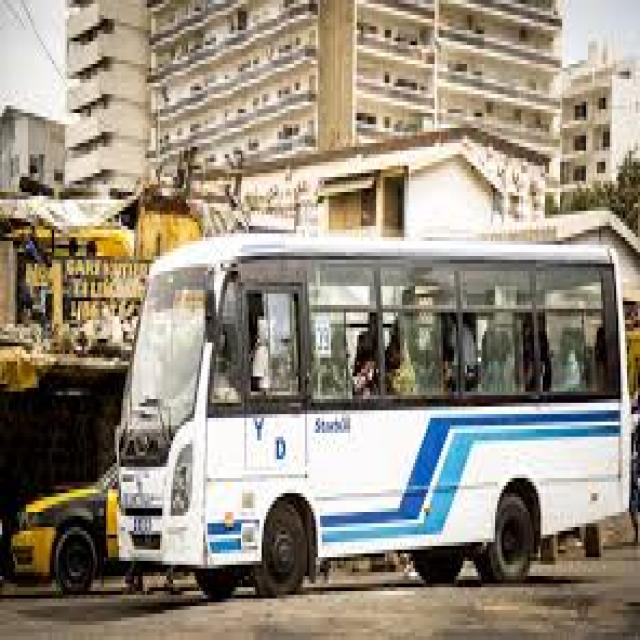bus tata: (117, 247, 630, 597)
taxi: (14, 470, 119, 593)
